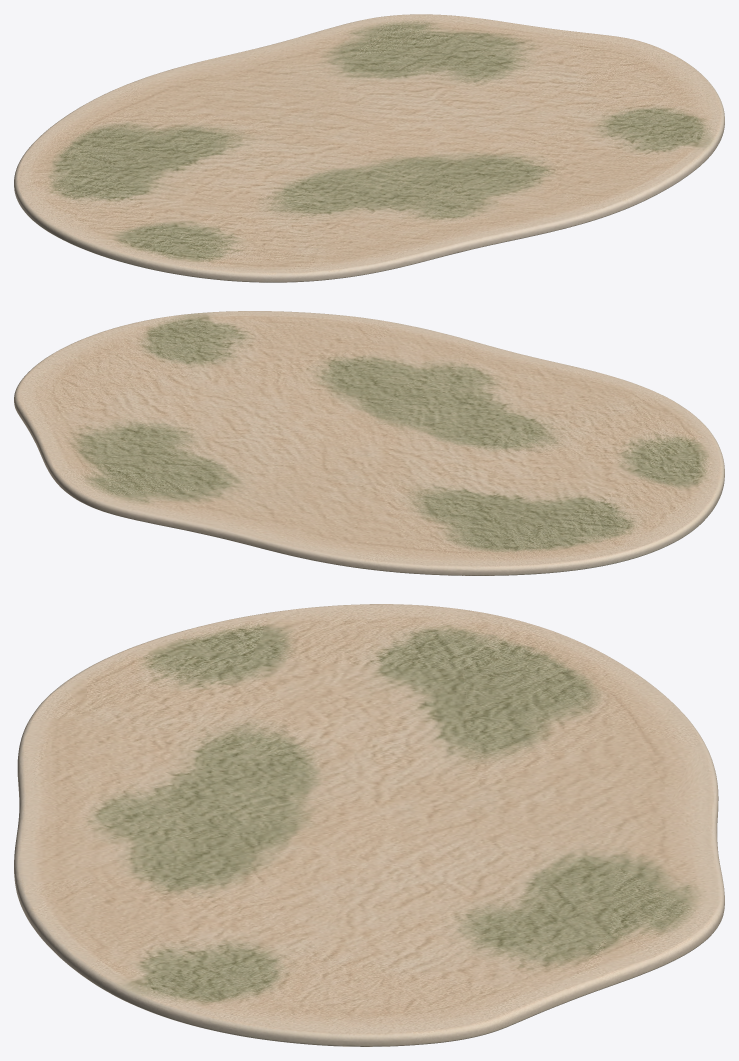
File: carpet.glb
The picture shows the model from 3 angles, top to bottom: view 1: azimuth 30°, elevation 25°; view 2: azimuth 150°, elevation 25°; view 3: azimuth 270°, elevation 25°; orthographic projection. The views are drawn at different scales.
Size of the model in its own units: 1.9 by 0.023 by 1.32.
1 material, 1 textured.
